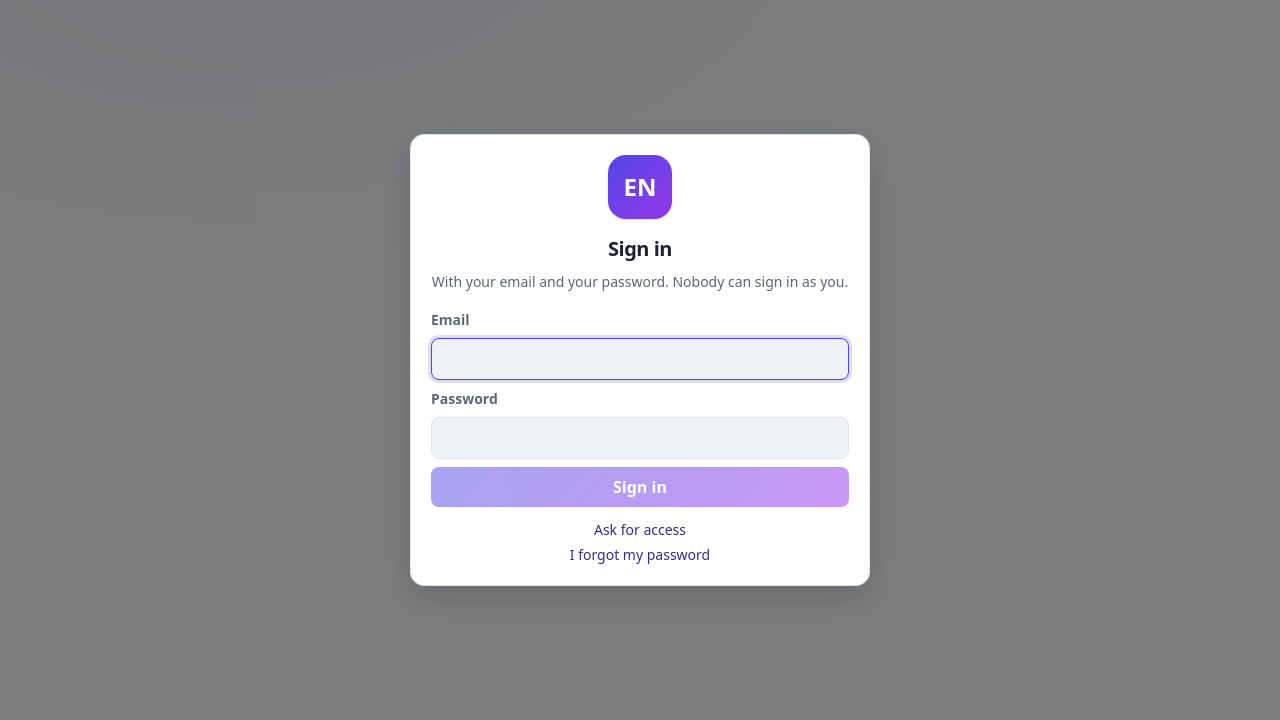
Test: ProfileGate · entrar (V3.82) › el freno se explica con su propio mensaje
Type "ana@example.com" into the field labelled "Email" at (640, 359), box [431,338,849,380]
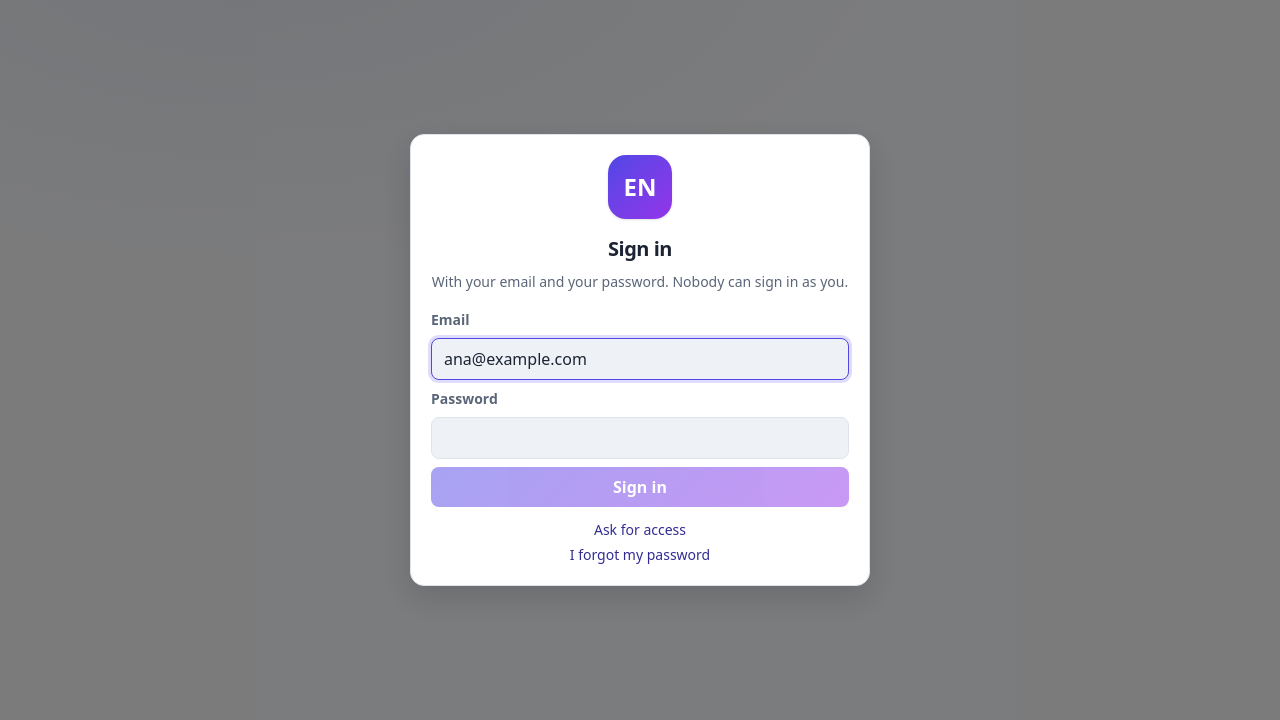
Type "caballo-bateria" into the password field labelled "Password" at (640, 438), box [431,417,849,459]
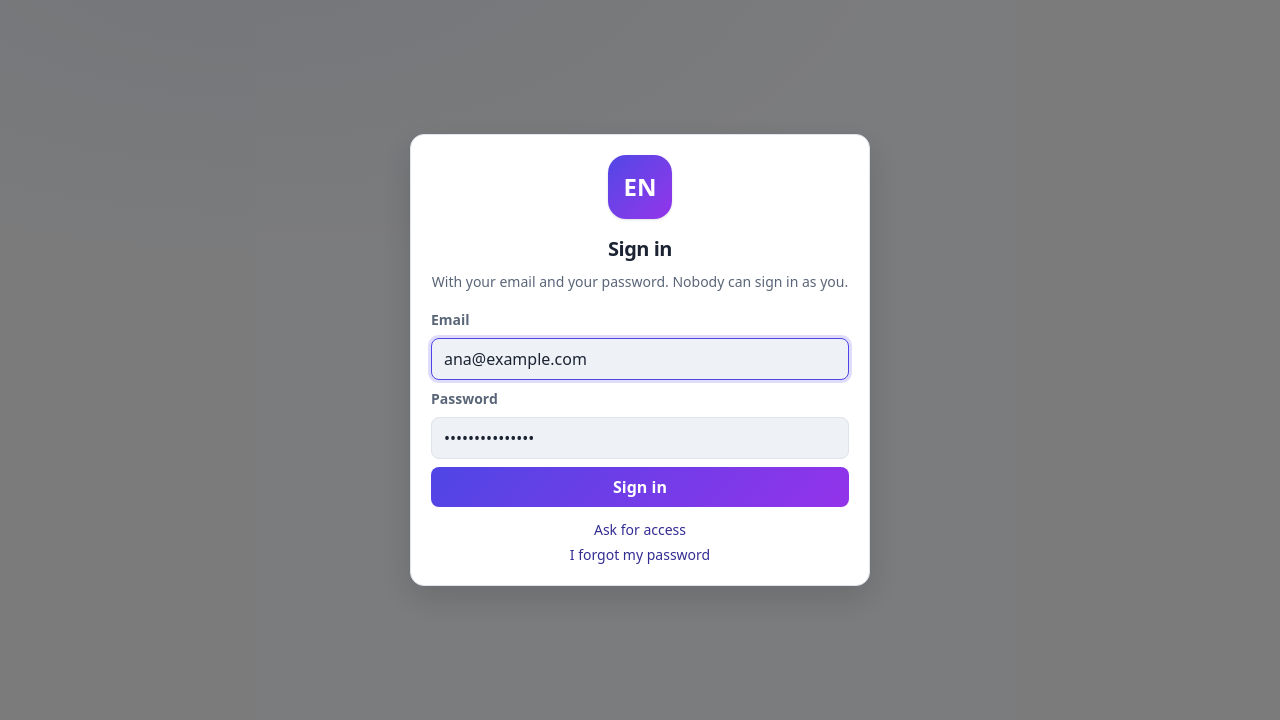
Click the button "Sign in" at (640, 487), box [431,467,849,507]
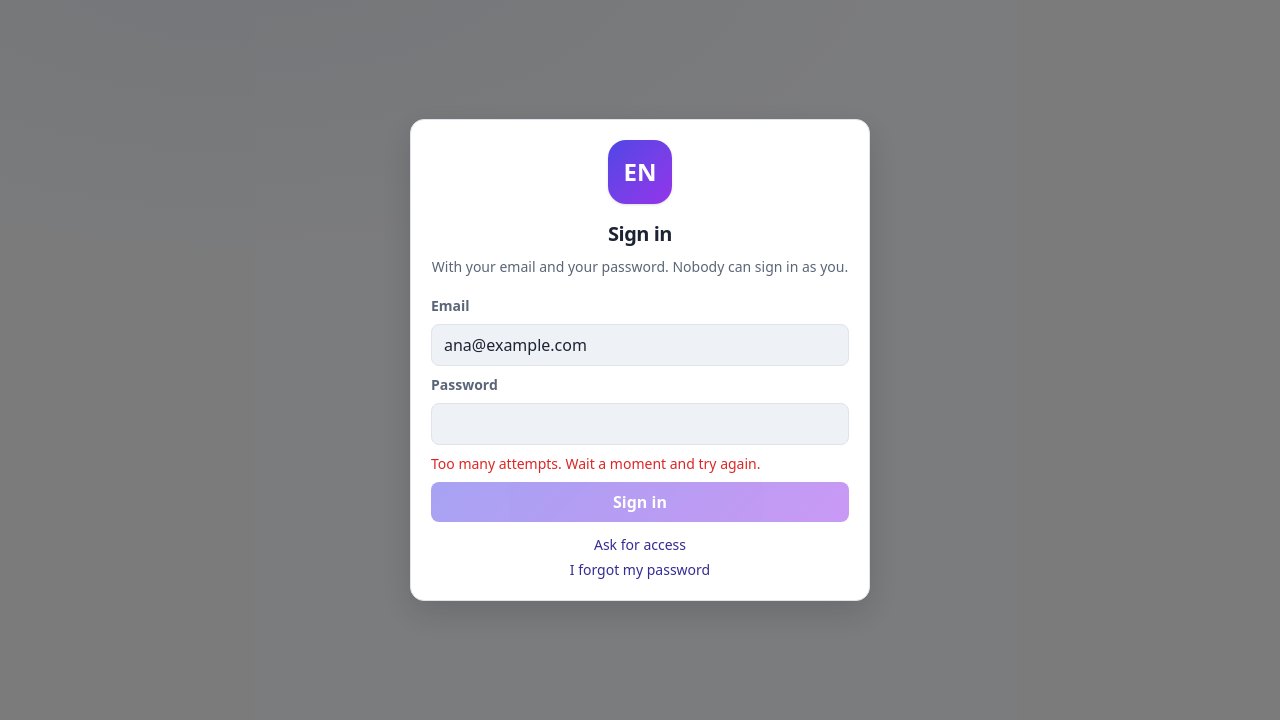
Expected: the text "Too many attempts. Wait a moment and try again." is shown, [431,454,760,473]
